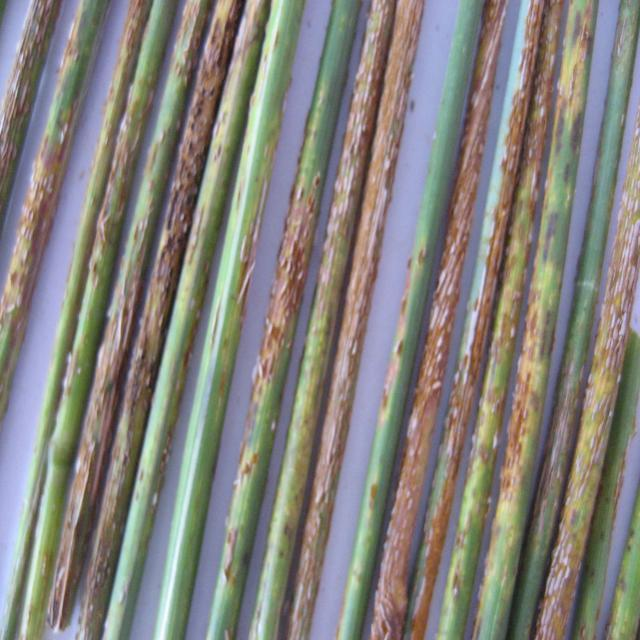Stem Rust: (22, 0, 640, 640)
